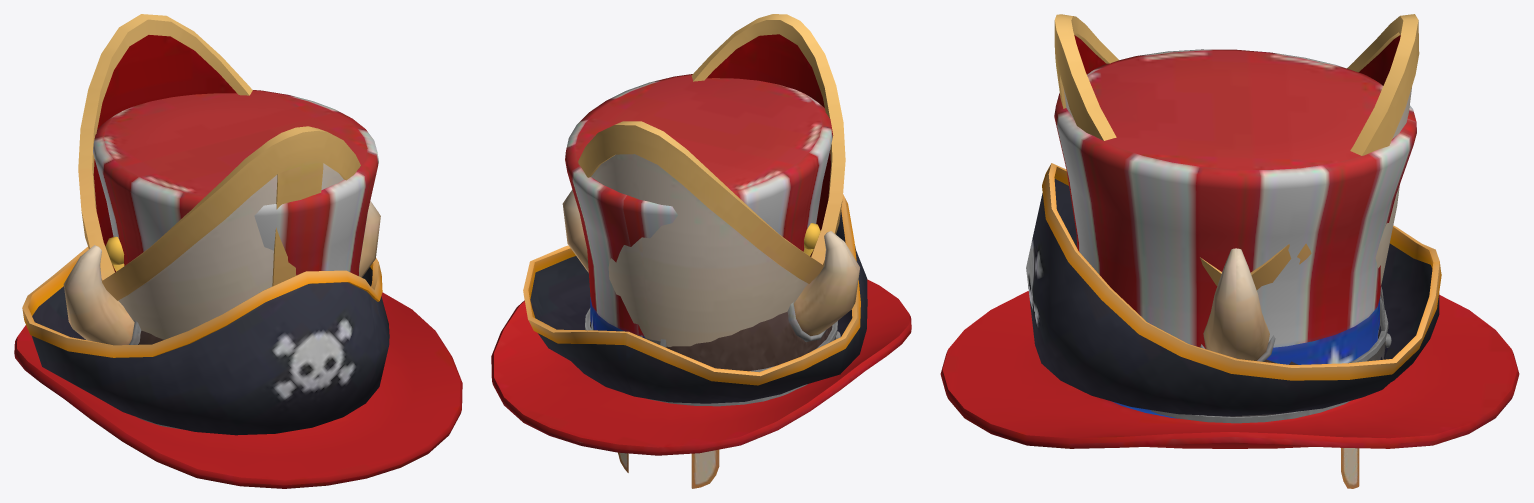
File: Helmets.fbx
The picture shows the model from 3 angles, left to right: view 1: azimuth 30°, elevation 25°; view 2: azimuth 150°, elevation 25°; view 3: azimuth 270°, elevation 25°; orthographic projection. The views are drawn at different scales.
Parts seen in each view (by area): view 1: Helmet3, Helmet1, Helmet2, Helmet4; view 2: Helmet3, Helmet2, Helmet1, Helmet4; view 3: Helmet3, Helmet1, Helmet2, Helmet4.
Part boxes in pixels (bbox=[...]): Helmet3: bbox=[14, 90, 462, 488]; Helmet1: bbox=[22, 247, 389, 435]; Helmet2: bbox=[78, 14, 360, 339]; Helmet4: bbox=[63, 201, 380, 429]; Helmet3: bbox=[491, 74, 911, 455]; Helmet2: bbox=[578, 14, 845, 488]; Helmet1: bbox=[523, 194, 867, 403]; Helmet4: bbox=[562, 189, 859, 406]; Helmet3: bbox=[940, 49, 1519, 448]; Helmet1: bbox=[1026, 163, 1441, 416]; Helmet2: bbox=[1054, 14, 1419, 488]; Helmet4: bbox=[1151, 248, 1391, 423].
Bounding box in the file's own units: 21.33 × 22.84 × 26.73.
1 material, 1 textured.
